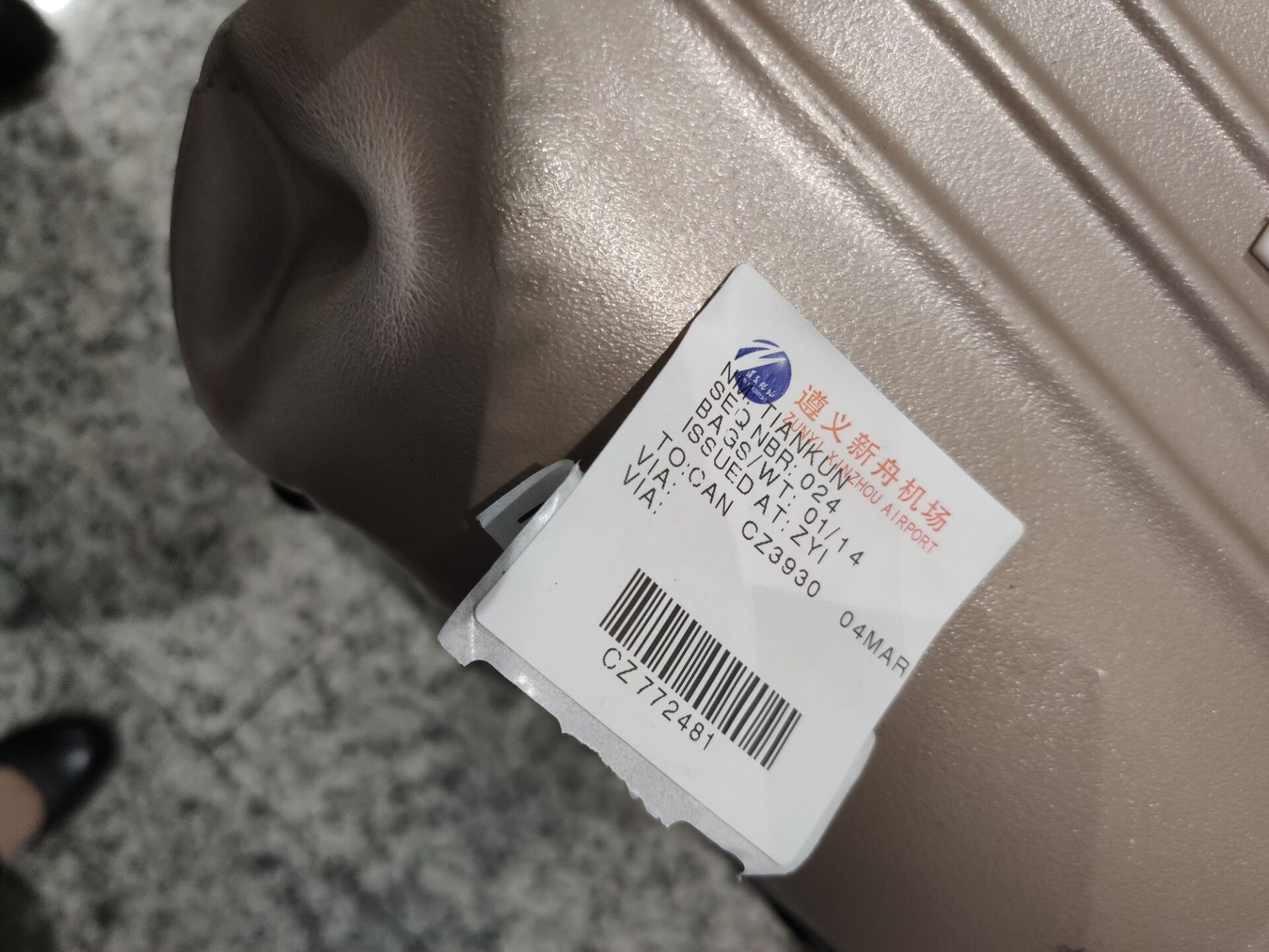hollow: (169, 17, 445, 452)
